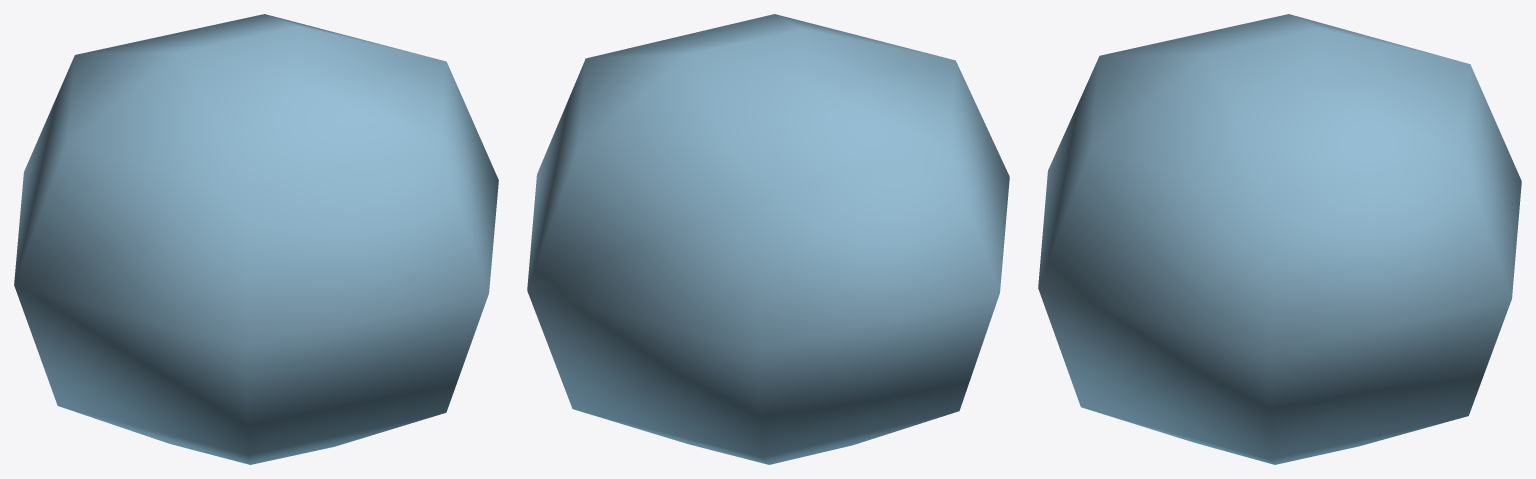
The model's file is LanternBlue.glb.
The picture shows the model from 3 angles, left to right: view 1: azimuth 30°, elevation 25°; view 2: azimuth 150°, elevation 25°; view 3: azimuth 270°, elevation 25°; orthographic projection.
Visible parts, largest first — view 1: LanternBlue; view 2: LanternBlue; view 3: LanternBlue.
Boxes of the visible parts, left/top/right/bottom form: LanternBlue: left=14, top=14, right=498, bottom=464; LanternBlue: left=527, top=14, right=1009, bottom=464; LanternBlue: left=1038, top=14, right=1521, bottom=464.
Bounding box in the file's own units: 0.2355 × 0.1765 × 0.2082.
